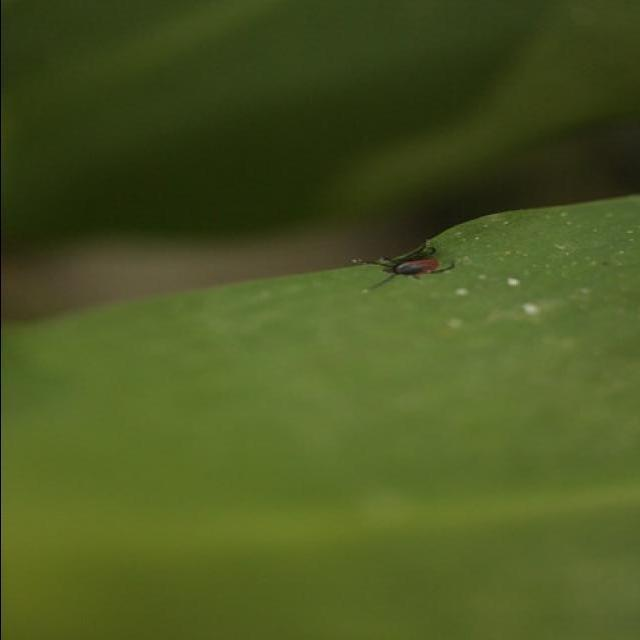Ixodes Ricinus-F: (369, 243, 454, 287)
